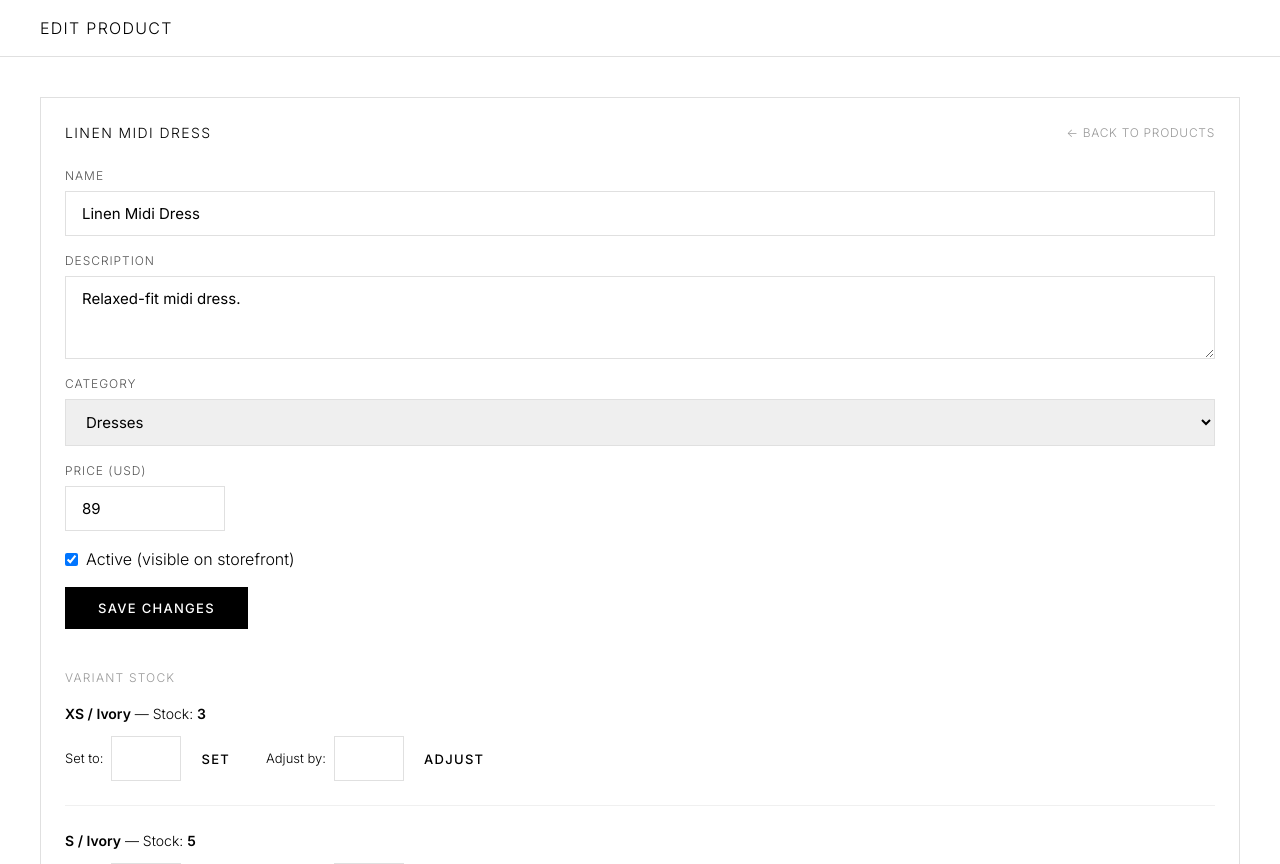
Test: AdminProductForm › edit mode › shows Changes saved message on success
Click the button "Save Changes" at (156, 608), box [65,587,248,629]
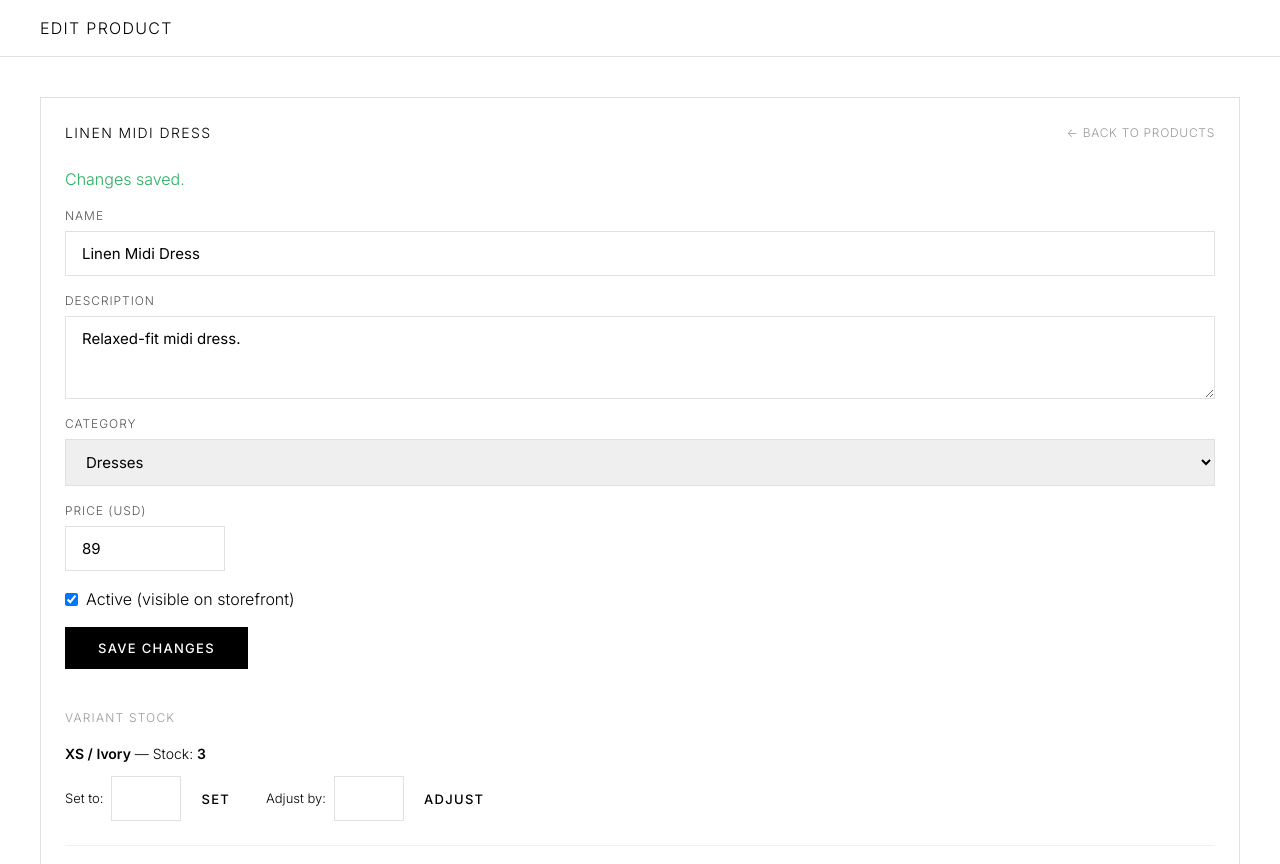
expect the message reads "Changes saved.": met, box [65,169,185,189]
